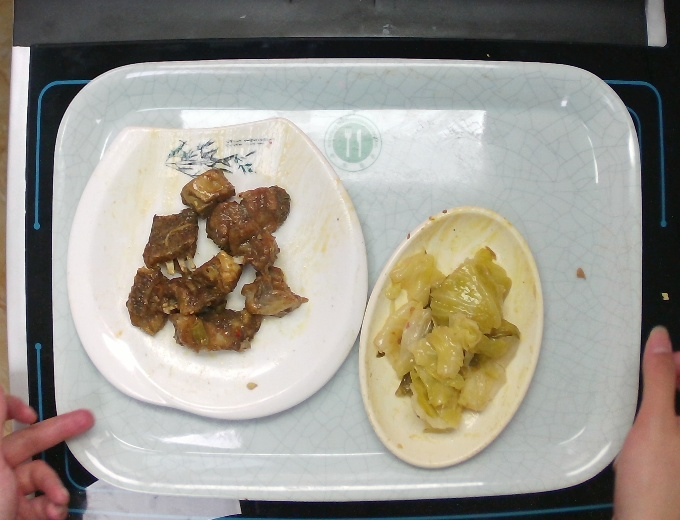JYsf-Mian_Pan: (62, 113, 371, 423)
JYsf-Tuo_Yuan_Wan: (355, 202, 547, 472)
